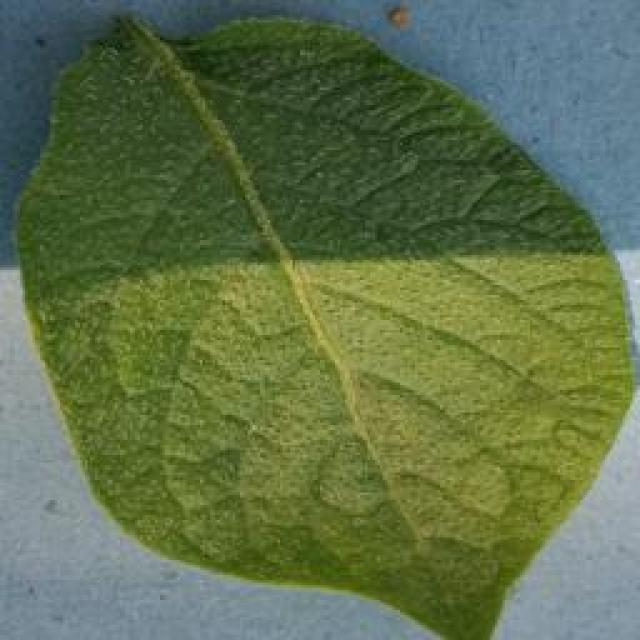Potato_Healthy: (5, 10, 628, 633)
